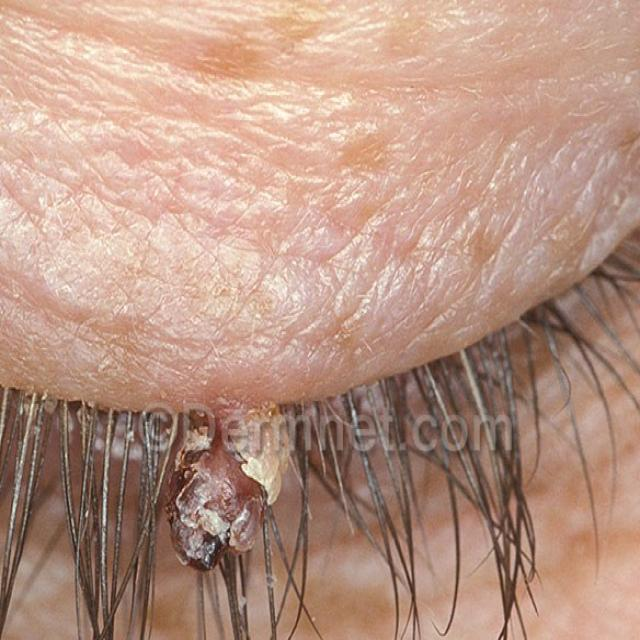Warts: (175, 398, 308, 578)
